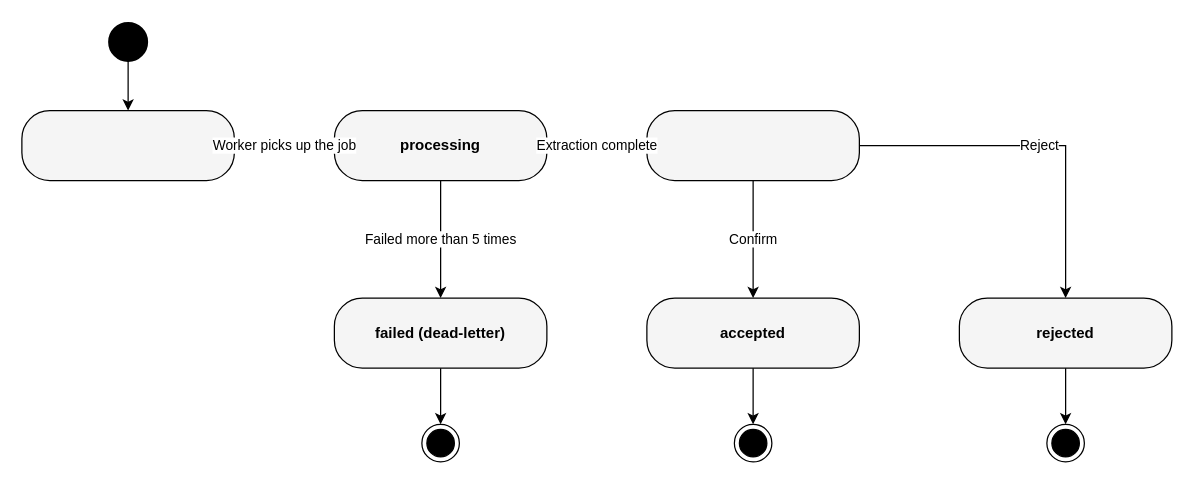
This 1194x484 diagram has some shape labels left out. Each missing label, with the centre of its shape:
needs-review: pixel 752 145
queued: pixel 127 145
